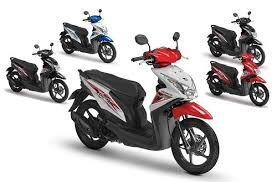motor: (71, 39, 215, 182), (5, 45, 67, 104), (57, 8, 118, 63), (207, 12, 269, 66), (207, 56, 271, 108)
